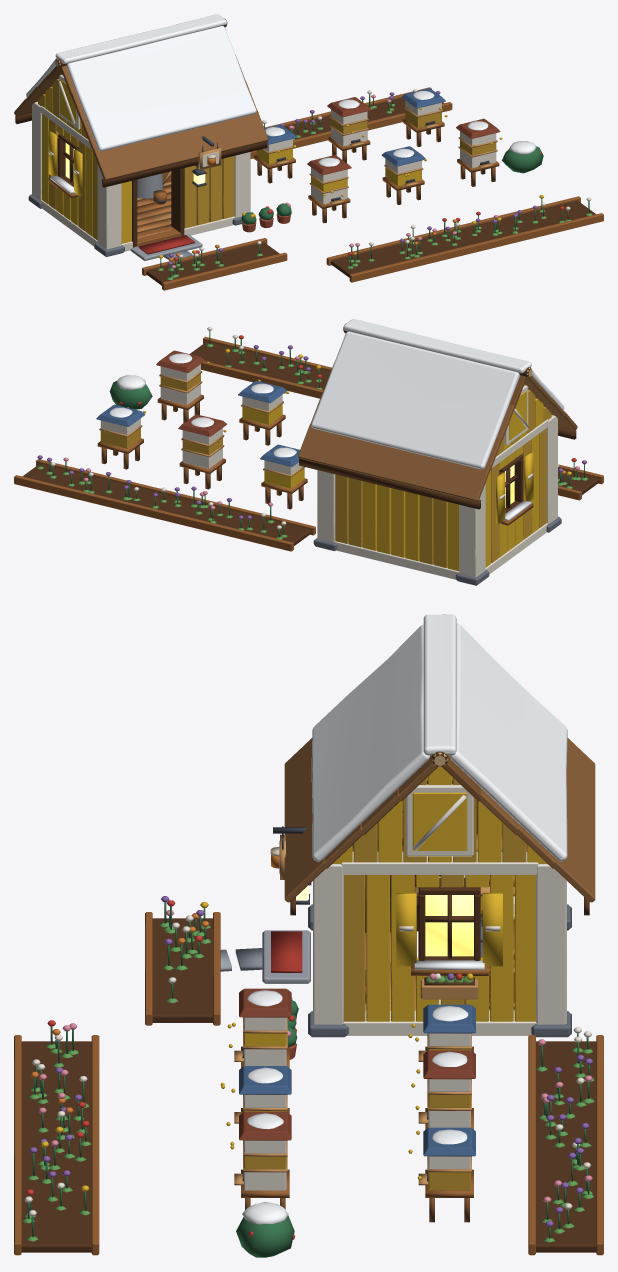
Rendered from apiary.glb.
3 views of the same model, one above another, from view 1: azimuth 30°, elevation 25°; view 2: azimuth 150°, elevation 25°; view 3: azimuth 270°, elevation 25° (orthographic). The views are drawn at different scales.
Visible parts, largest first — view 1: exterior, roof, walls, floor, walls_low, interior; view 2: roof, exterior, walls, walls_low; view 3: exterior, roof, walls, floor, walls_low.
Part boxes in pixels (x1,y1,x2,y2): exterior: [142, 87, 603, 290]; roof: [14, 14, 268, 187]; walls: [28, 101, 250, 256]; floor: [130, 186, 202, 260]; walls_low: [32, 170, 250, 248]; interior: [137, 171, 171, 204]; roof: [298, 319, 577, 509]; exterior: [14, 327, 603, 551]; walls: [313, 415, 561, 585]; walls_low: [317, 494, 557, 576]; exterior: [14, 896, 603, 1257]; roof: [284, 614, 595, 915]; walls: [270, 777, 571, 1037]; floor: [262, 919, 514, 1010]; walls_low: [313, 896, 566, 1024].
Bounding box in the file's own units: 8.72 × 3.46 × 6.08.
